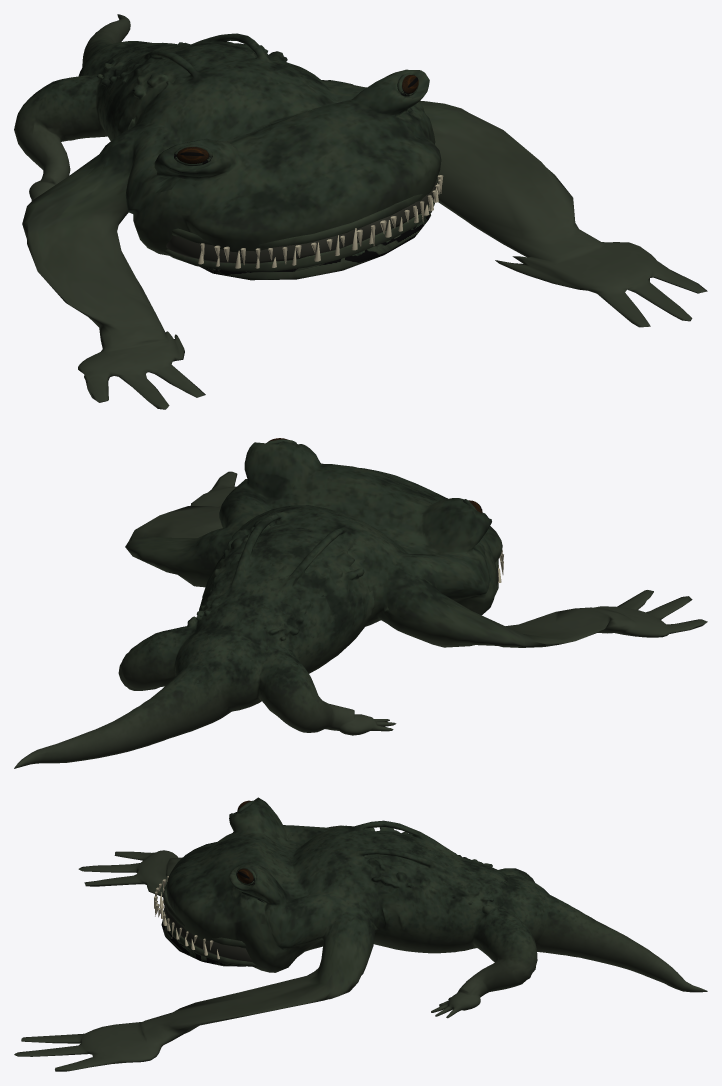
File: secret-cave-creature.glb
The picture shows the model from 3 angles, top to bottom: view 1: azimuth 30°, elevation 25°; view 2: azimuth 150°, elevation 25°; view 3: azimuth 270°, elevation 25°; orthographic projection. The views are drawn at different scales.
Visible parts, largest first — view 1: Secret_Cave_Creature_Uncanny_14k; view 2: Secret_Cave_Creature_Uncanny_14k; view 3: Secret_Cave_Creature_Uncanny_14k.
Part boxes in pixels (bbox=[...]): Secret_Cave_Creature_Uncanny_14k: bbox=[14, 14, 707, 409]; Secret_Cave_Creature_Uncanny_14k: bbox=[14, 438, 707, 768]; Secret_Cave_Creature_Uncanny_14k: bbox=[14, 797, 707, 1071].
Bounding box in the file's own units: 2.78 × 0.8016 × 3.71.
4 materials, 2 textured.
